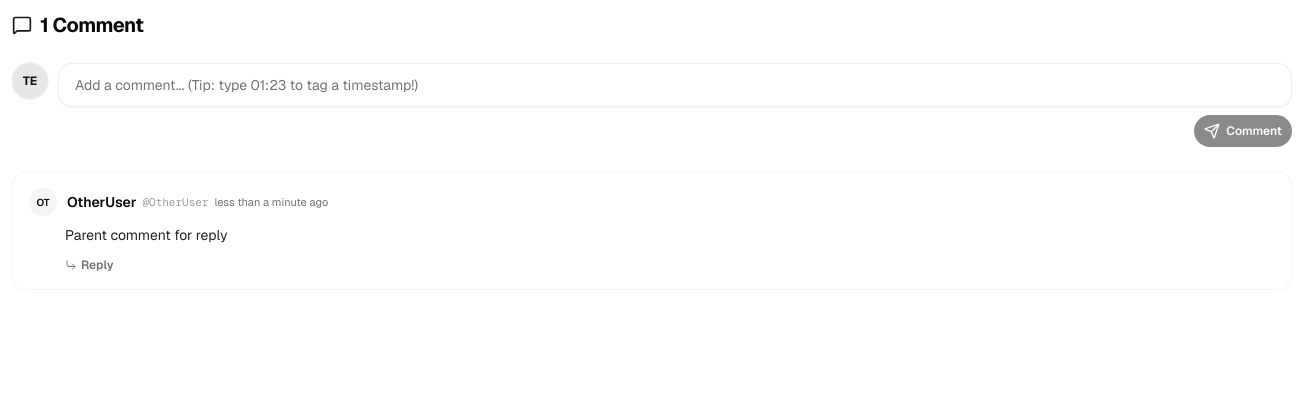
Test: EngagementButtons & CommentsSection › CommentsSection › allows replying to a comment
Expected: the text "Parent comment for reply" is shown, [65,226,228,244]
Note: Click Reply button
Click the button "Reply" at (89, 265), box [65,257,114,273]
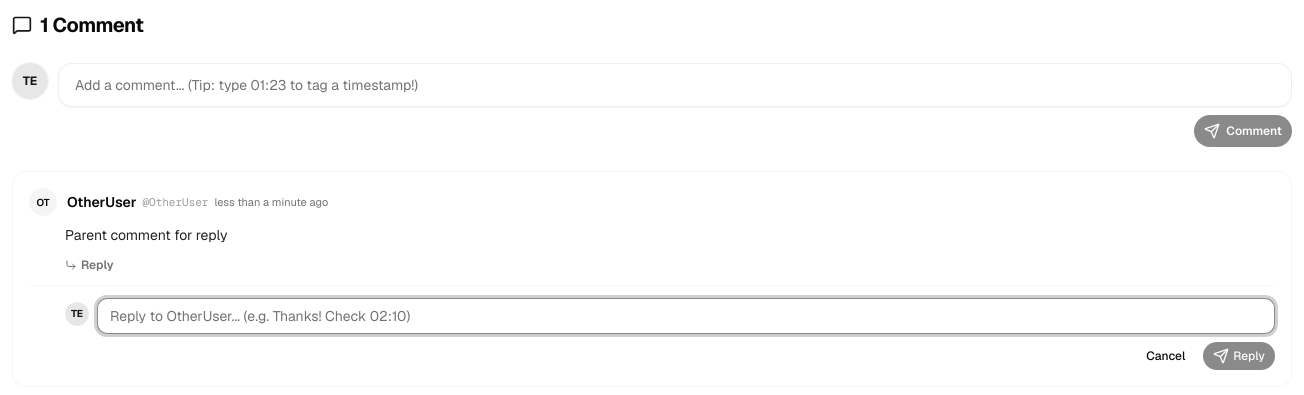
Note: Fill in reply input
Type "This is a child reply" into the field with placeholder "Reply to OtherUser... (e.g. Thanks! Check 02:10)" at (686, 316), box [97,298,1275,334]
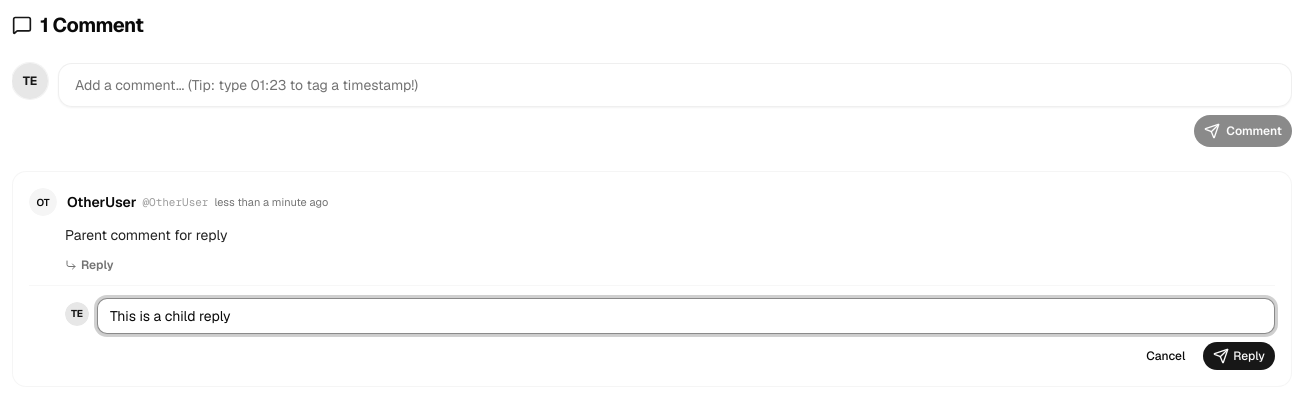
Note: Click submit reply button
Click the 2nd button "Reply" at (1239, 356), box [1203,342,1275,370]
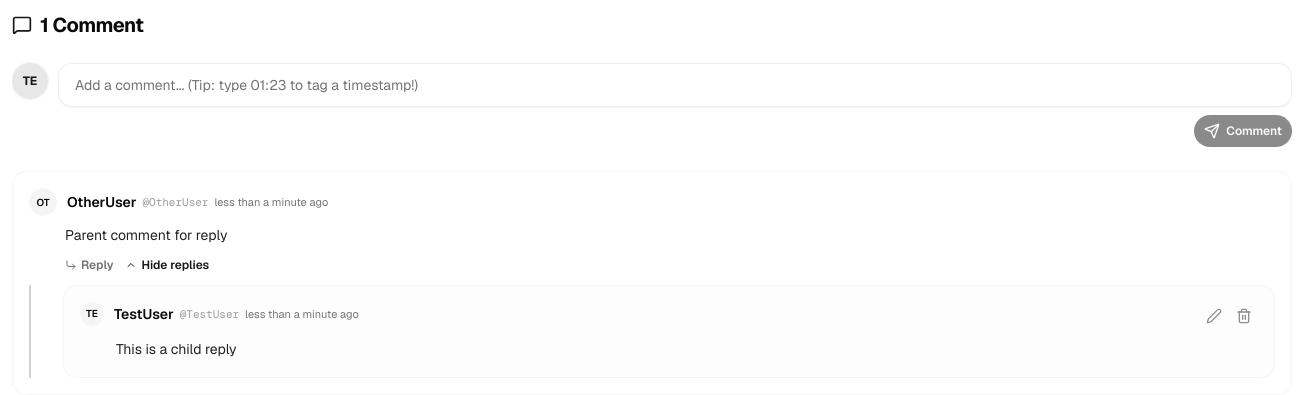
Now the text "This is a child reply" is shown, box [116,340,237,358]
